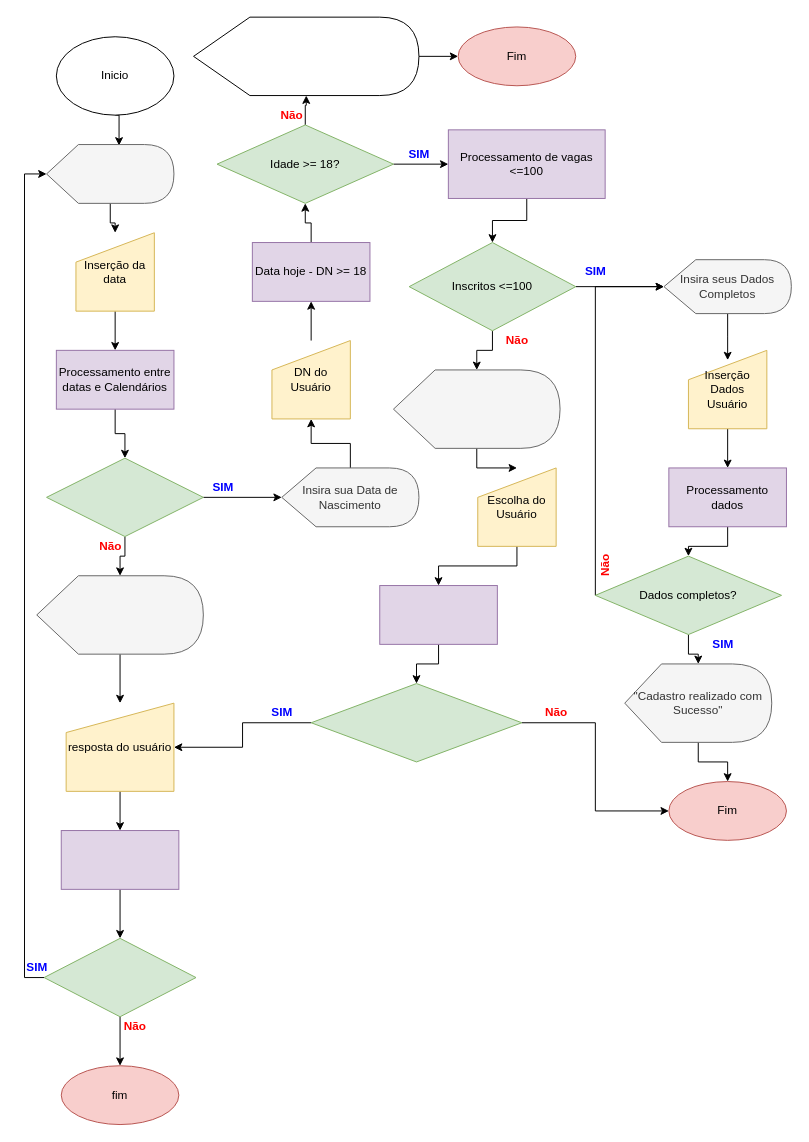
Some shapes in this 809 by 1142 pixel diagram are drawn without their labels. The centre of each missing label's shape, as x and y in pixels:
"Bem vindo" insira a data de hoje:: pixel 110 173
"Evento somente para maiores de 18 anos, ainda não chegou sua vez": pixel 306 56
"vagas esgotadas, deseja se cadastrar em outro evento?": pixel 476 408
Deseja participar de outro evento?: pixel 416 722
evento encerrado, deseja se cadastrar em outro?: pixel 119 614
Evento posterior a HOJE?: pixel 124 497
Processamento da escolha: pixel 438 614
Processamento da resposta do Usuário: pixel 119 859
Sim ou Não: pixel 119 977
